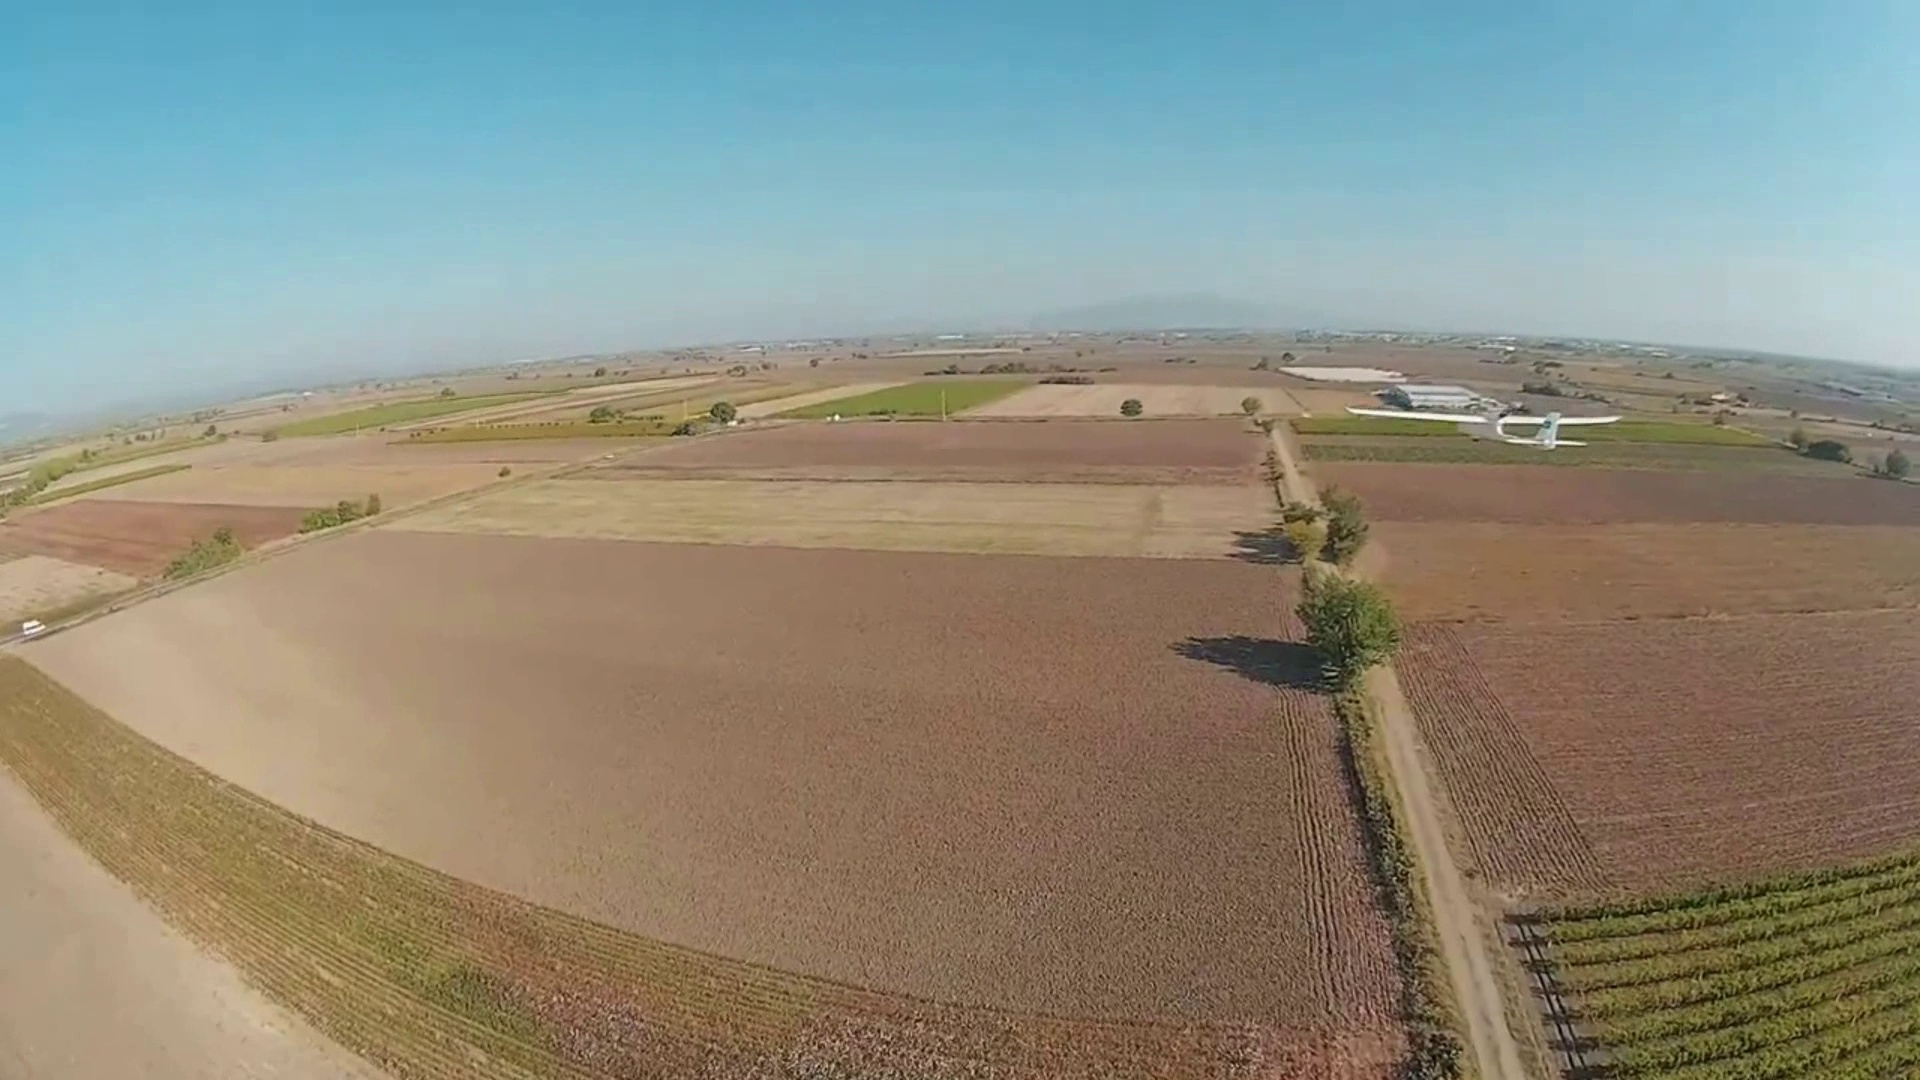airplane: (1258, 369, 1621, 443)
